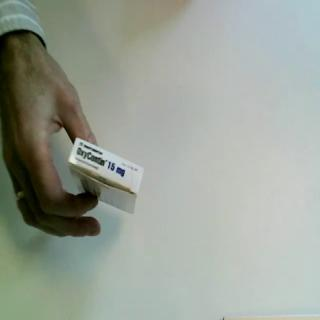oxycontin15mg: (67, 136, 145, 216)
